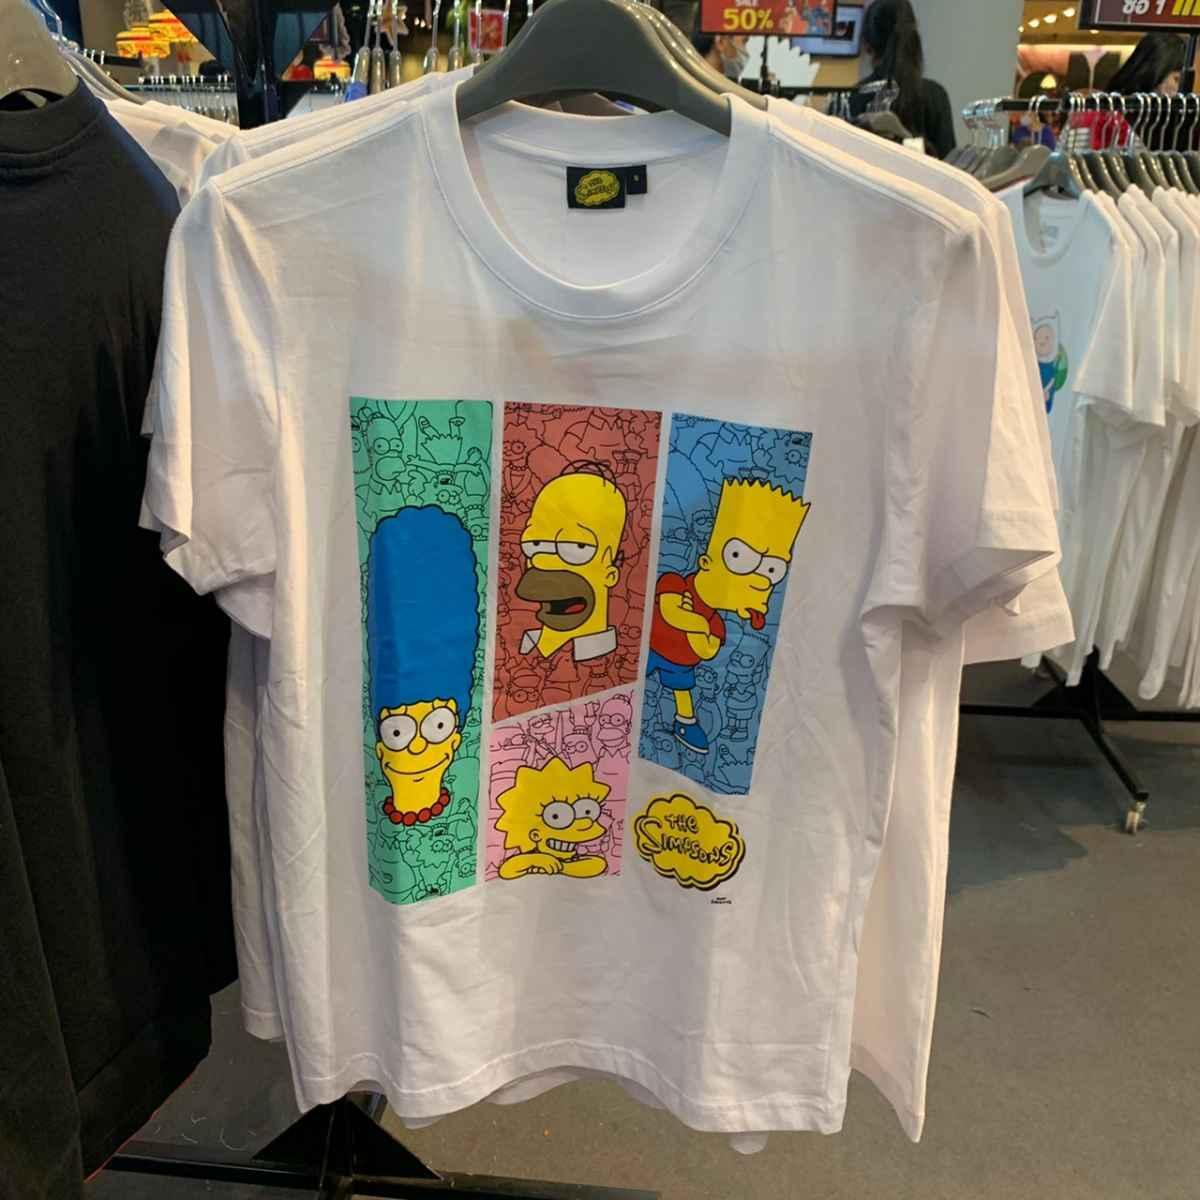Tshirt: (158, 93, 1053, 1129)
